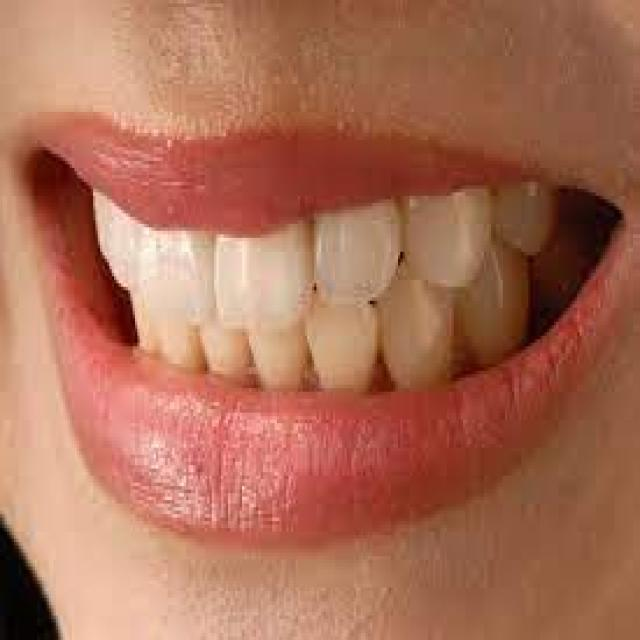tooth: (386, 262, 456, 381), (303, 276, 382, 374), (133, 220, 207, 308), (218, 238, 296, 315), (468, 266, 526, 367), (409, 199, 482, 273), (303, 224, 391, 276), (486, 186, 558, 248), (95, 192, 135, 284), (140, 308, 196, 370), (253, 315, 296, 381), (207, 318, 251, 364)
